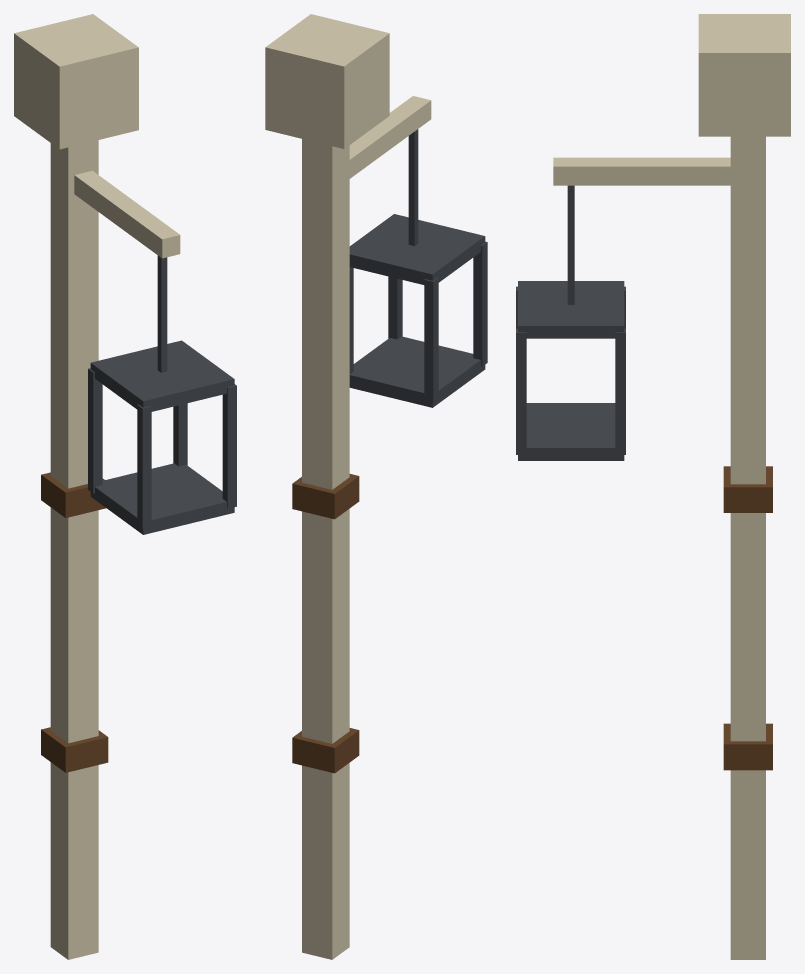
The model's file is cave_lantern.glb.
3 renders of one model, left to right at view 1: azimuth 30°, elevation 25°; view 2: azimuth 150°, elevation 25°; view 3: azimuth 270°, elevation 25°, orthographic.
Visible parts, largest first — view 1: cave_lantern; view 2: cave_lantern; view 3: cave_lantern.
Part boxes in pixels (box(x1,y1,x2,y2)): cave_lantern: box(14, 14, 236, 959); cave_lantern: box(265, 14, 487, 959); cave_lantern: box(516, 14, 790, 959).
Size of the model in its own units: 0.31 by 2.86 by 0.775.
1 material, 1 textured.
